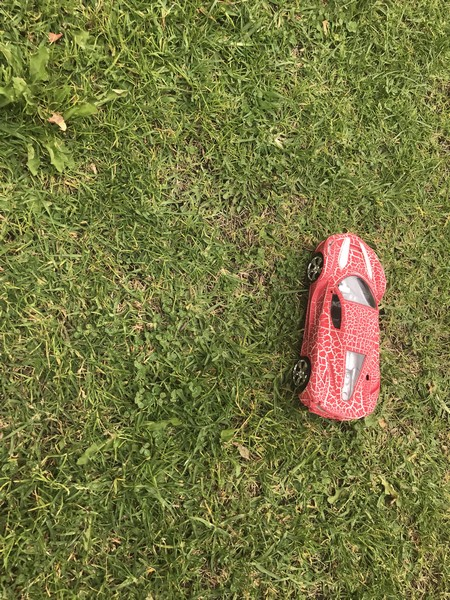RC: (289, 231, 387, 422)
